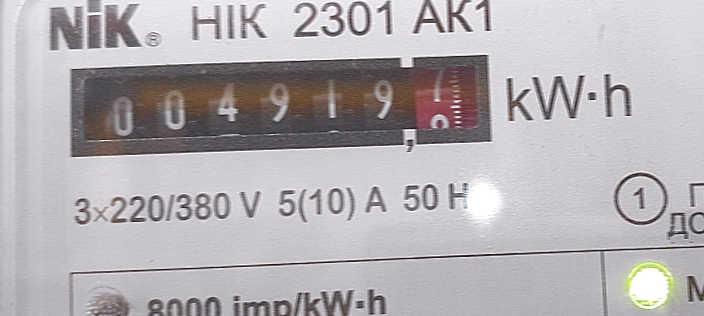0: (159, 85, 187, 131), (108, 92, 134, 136)
1: (321, 74, 338, 120)
4: (212, 78, 238, 122)
7: (422, 63, 447, 104)
9: (369, 74, 394, 122), (265, 79, 290, 124)
screen: (55, 38, 508, 174)
